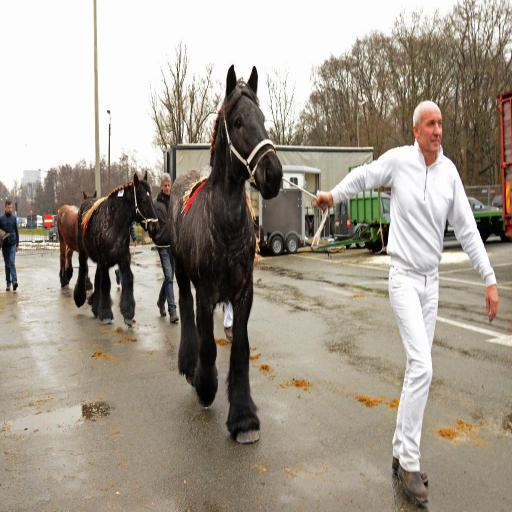horse: (165, 62, 283, 448), (74, 172, 160, 326), (55, 192, 97, 289)
